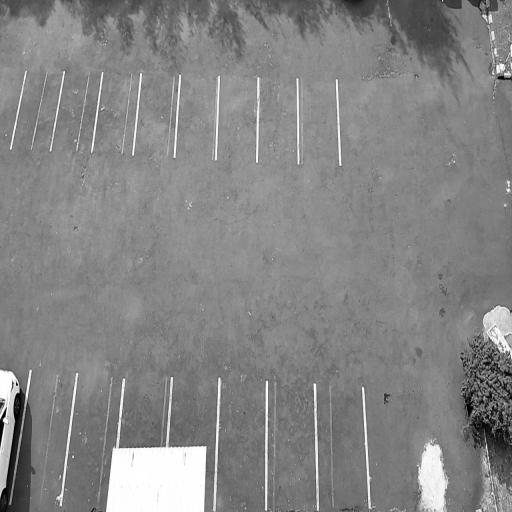Car: (0, 367, 22, 510)
Space Available: (9, 371, 78, 504), (62, 371, 119, 505), (214, 377, 267, 509), (267, 378, 319, 509), (316, 384, 369, 509), (10, 68, 64, 151), (51, 68, 103, 152), (91, 71, 141, 152), (134, 71, 180, 157), (168, 374, 219, 449), (118, 376, 171, 447), (174, 76, 219, 159), (298, 78, 341, 164), (216, 75, 258, 161), (257, 76, 298, 163), (0, 67, 26, 151)
